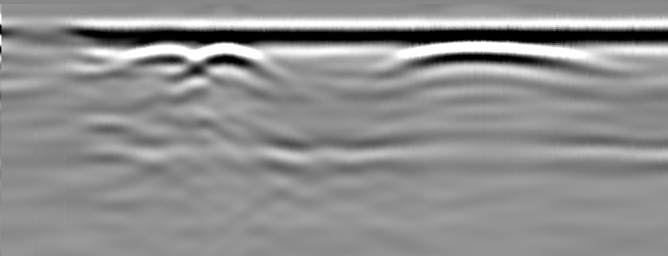pipe: (5, 23, 86, 45)
steel: (398, 45, 583, 70), (126, 45, 252, 70)
